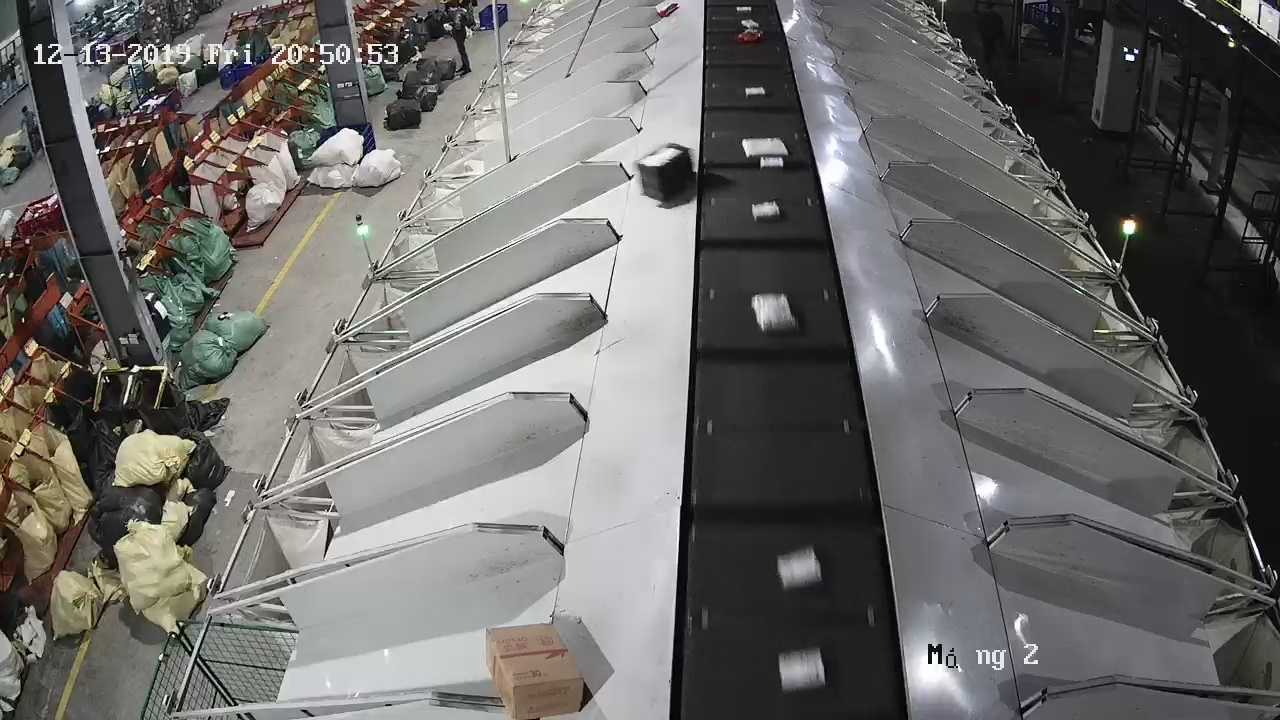parcel: (632, 142, 694, 203)
